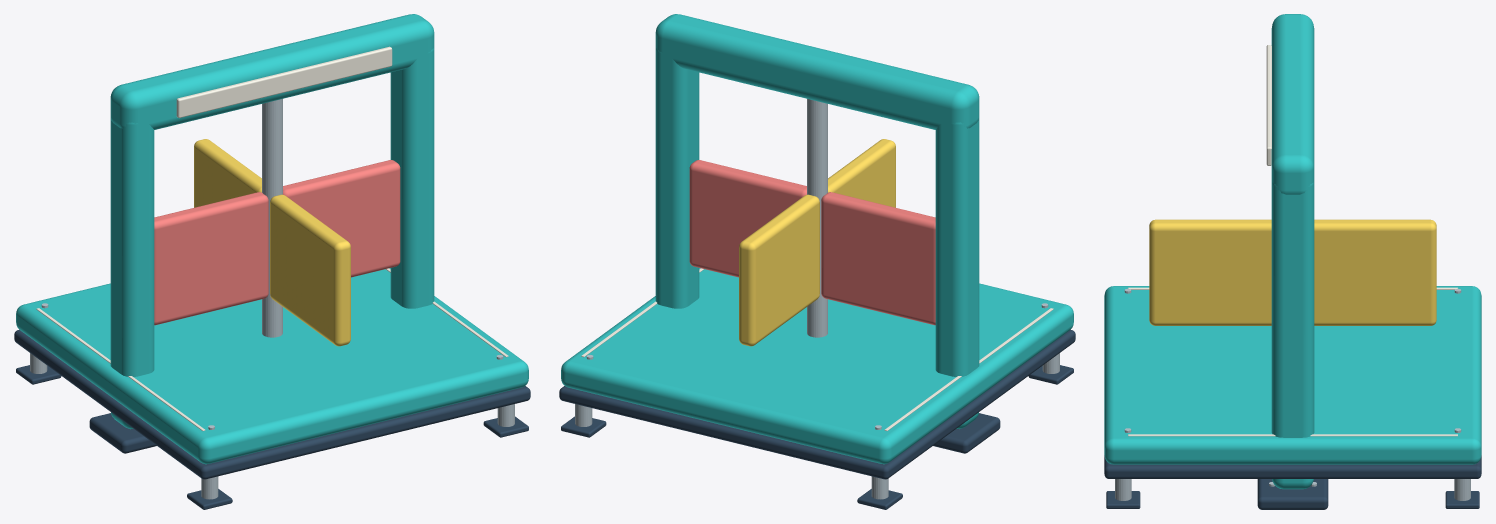
File: party-obstacle-course-party-obstacle-course-rotating-p-4f80b42e__28934.glb
3 renders of one model, left to right at view 1: azimuth 30°, elevation 25°; view 2: azimuth 150°, elevation 25°; view 3: azimuth 270°, elevation 25°, orthographic.
Visible parts, largest first — view 1: party-obstacle-course-rotating-paddle-gate, rotor/coral (×2), rotor/yellow (×2); view 2: party-obstacle-course-rotating-paddle-gate, rotor/coral (×2), rotor/yellow (×2); view 3: party-obstacle-course-rotating-paddle-gate, rotor/yellow (×2).
Boxes of the visible parts, <box> form: party-obstacle-course-rotating-paddle-gate: <box>14,14,530,509</box>; rotor/coral (×2): <box>154,160,400,325</box>; rotor/yellow (×2): <box>194,139,350,346</box>; party-obstacle-course-rotating-paddle-gate: <box>559,14,1075,509</box>; rotor/coral (×2): <box>689,160,935,325</box>; rotor/yellow (×2): <box>739,139,895,346</box>; party-obstacle-course-rotating-paddle-gate: <box>1104,14,1481,509</box>; rotor/yellow (×2): <box>1149,219,1436,325</box>.
Size of the model in its own units: 4.05 by 4.05 by 4.
